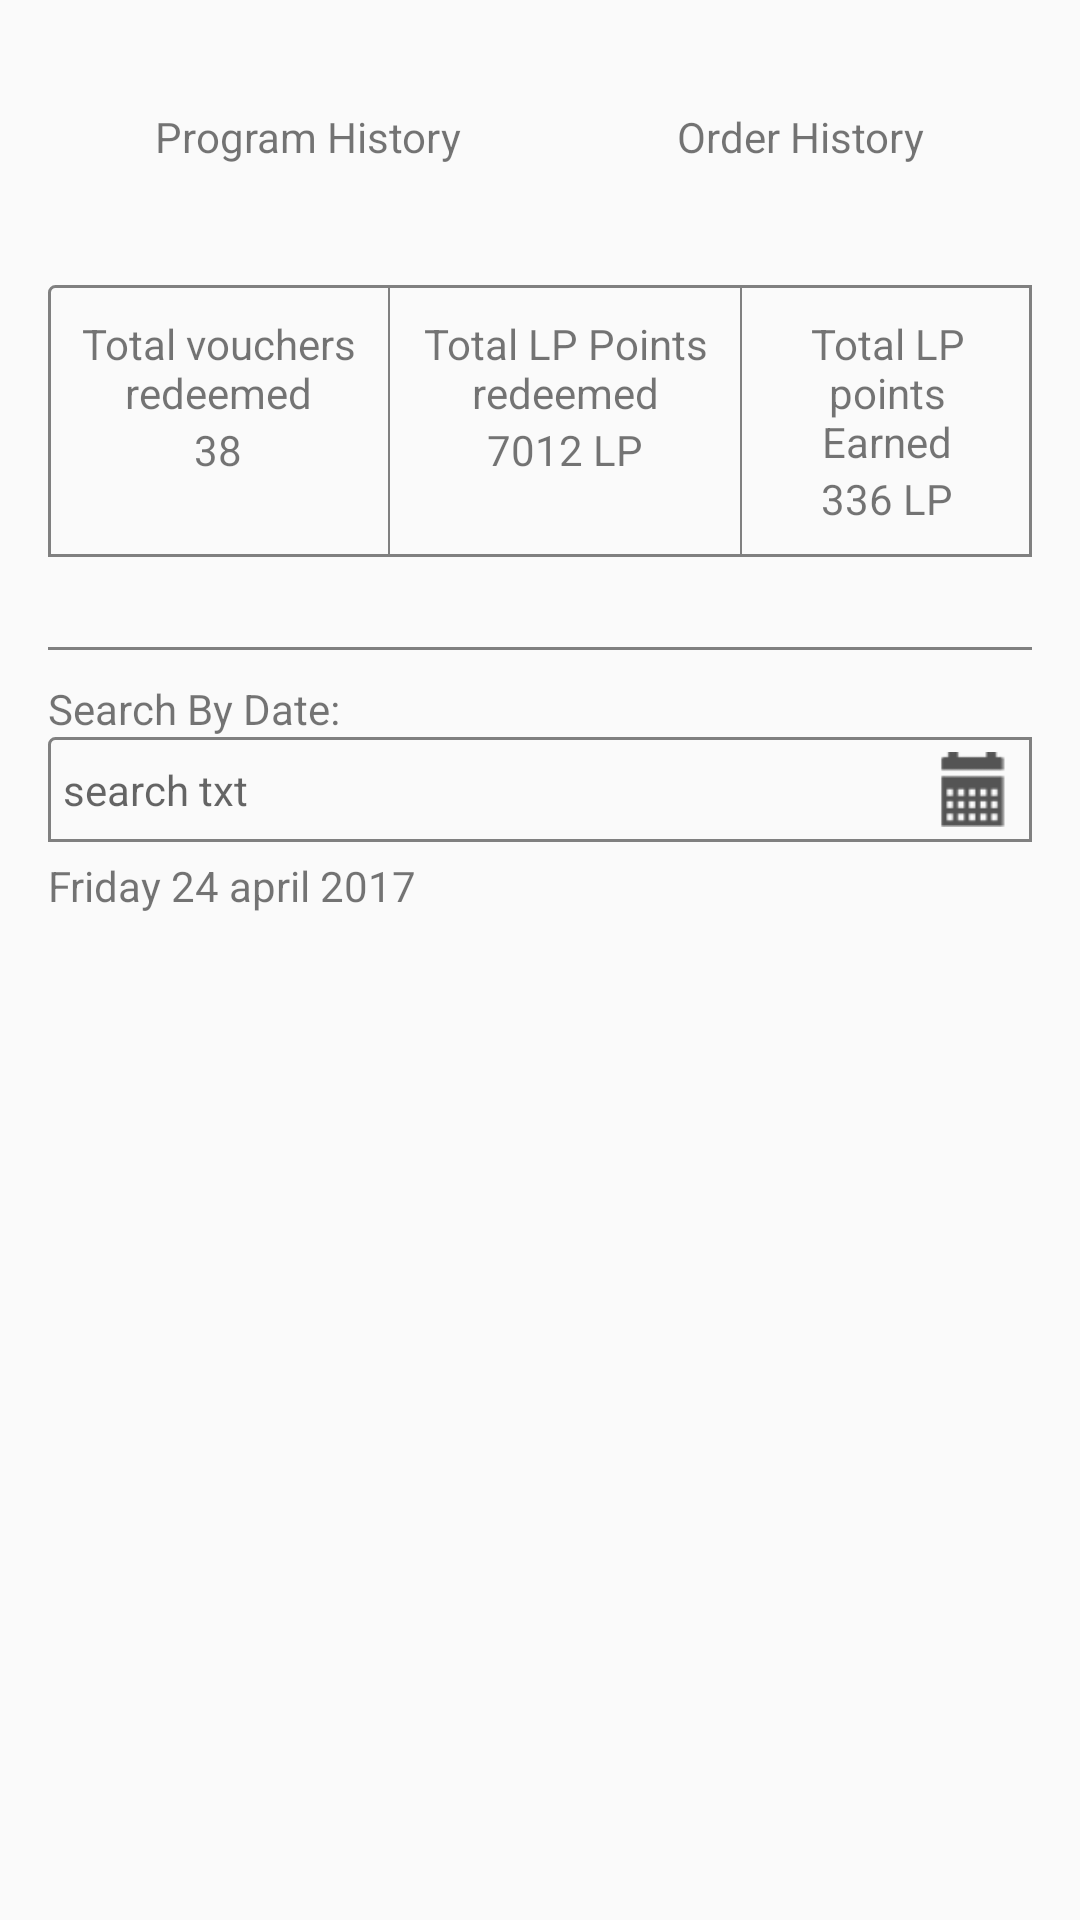

Screen size 1080×1920. Icon name, then its center in pixels as (x,y):
calender: (973,789)
